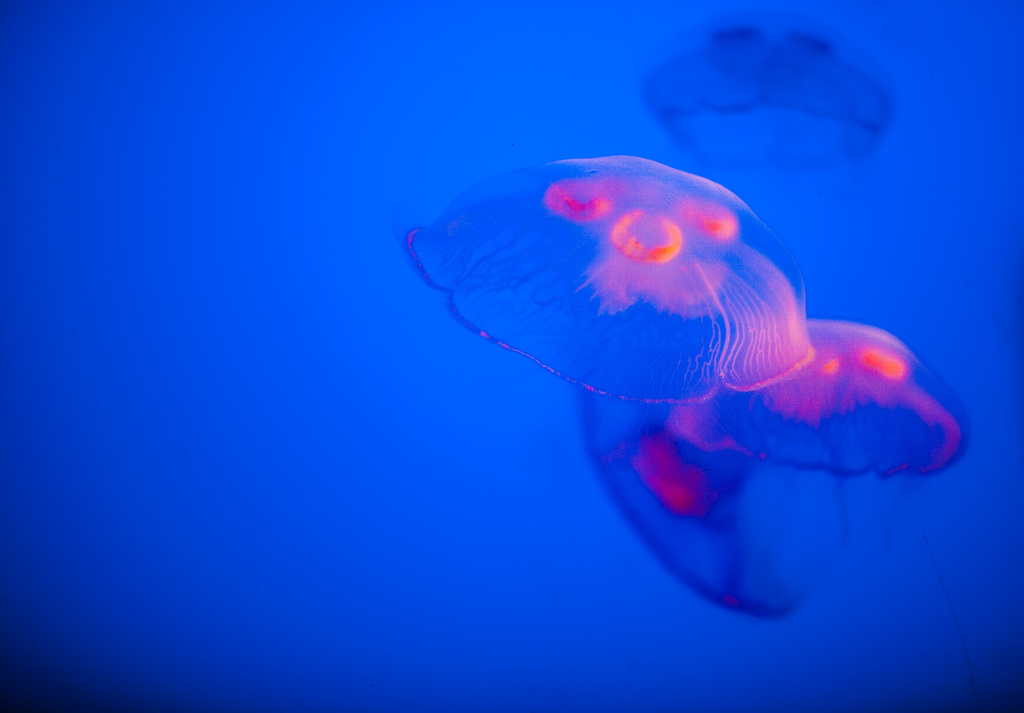Jellyfish: (400, 150, 821, 402), (582, 391, 849, 618), (676, 316, 970, 483), (642, 21, 897, 192)
